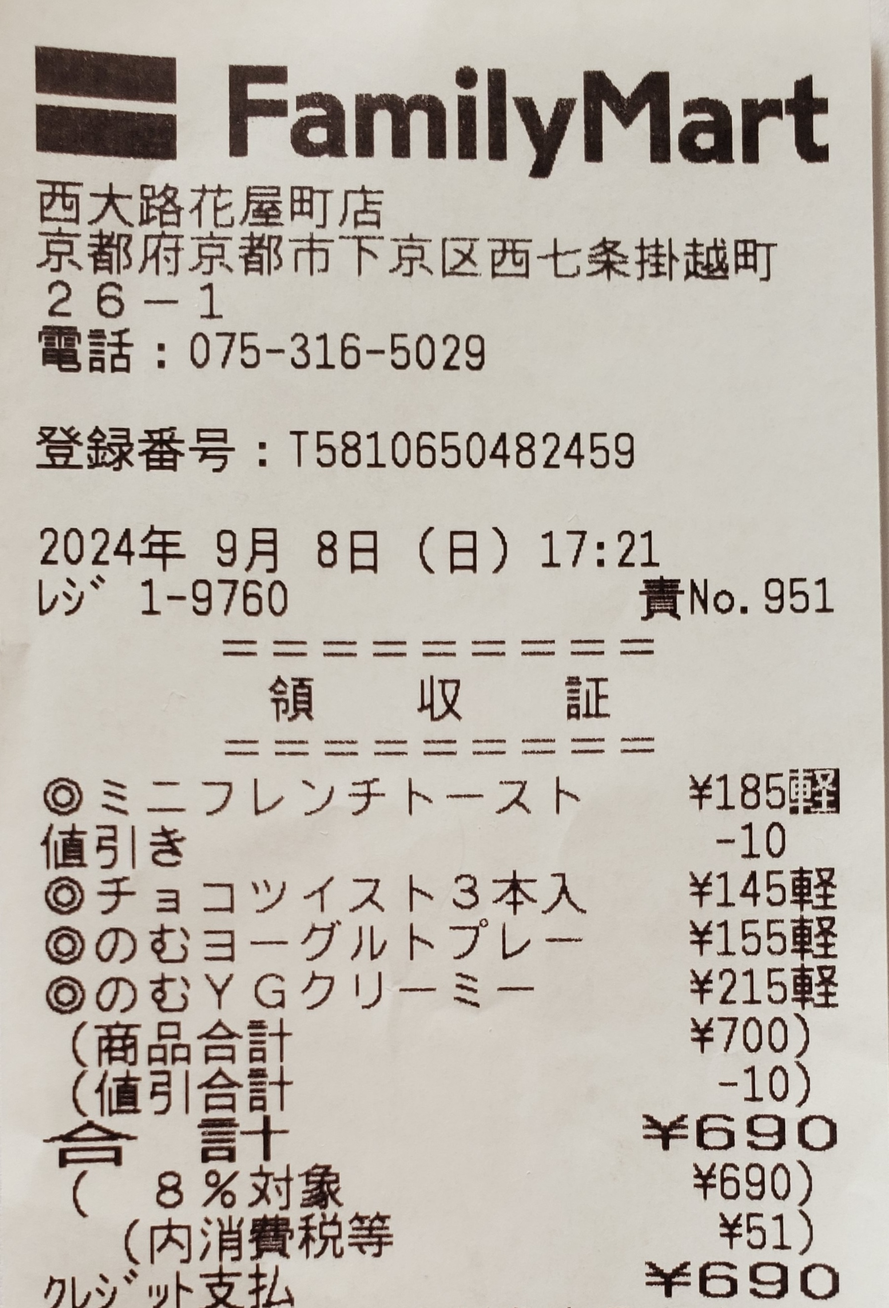Date: (35, 515, 390, 578)
Shopname: (201, 45, 864, 183)
Telnum: (182, 324, 501, 384)
Totalpay: (37, 1117, 858, 1167)
